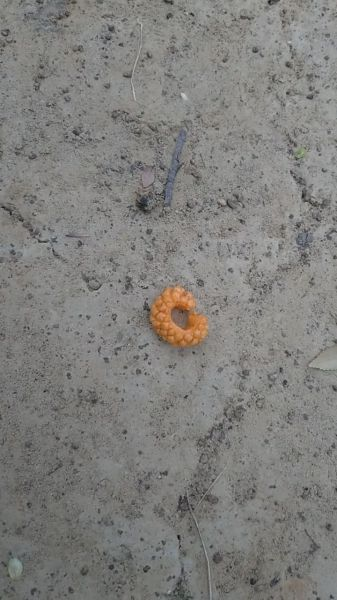eggs: (147, 278, 219, 360)
